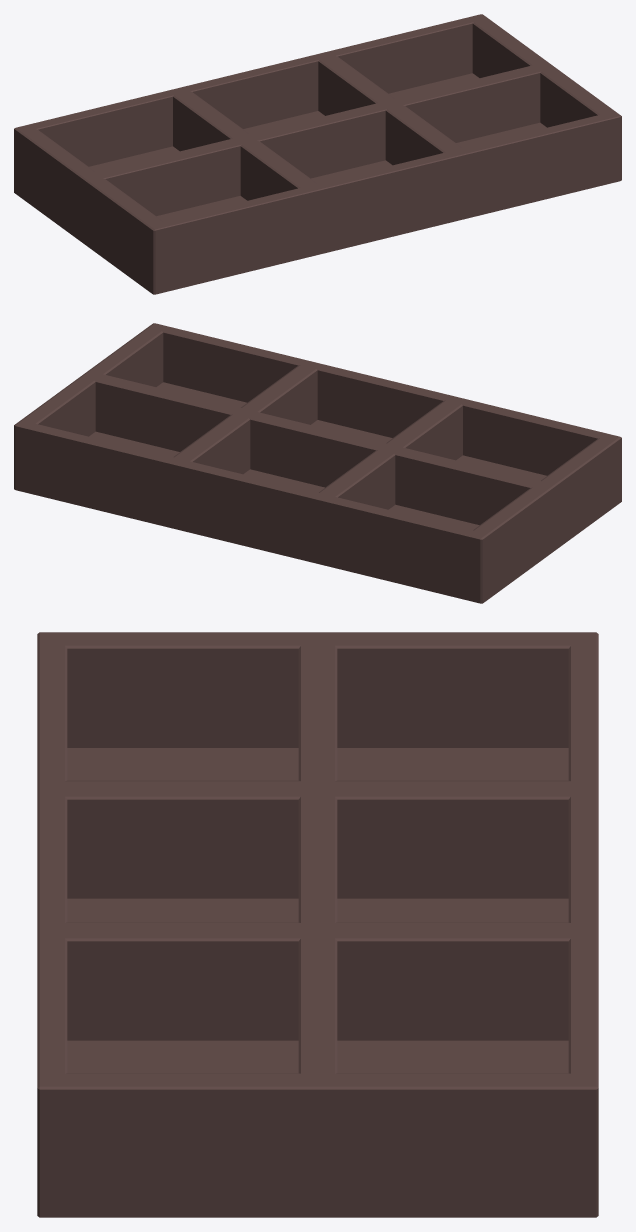
File: BoxCompartment.fbx
3 views of the same model, one above another, from view 1: azimuth 30°, elevation 25°; view 2: azimuth 150°, elevation 25°; view 3: azimuth 270°, elevation 25° (orthographic). The views are drawn at different scales.
Parts seen in each view (by area): view 1: BoxCompartment; view 2: BoxCompartment; view 3: BoxCompartment.
Boxes of the visible parts, box(x1,y1,x2,y2) form: BoxCompartment: box(14, 14, 621, 294); BoxCompartment: box(14, 323, 621, 603); BoxCompartment: box(37, 632, 598, 1217).
Size of the model in its own units: 1515 by 201 by 785.
